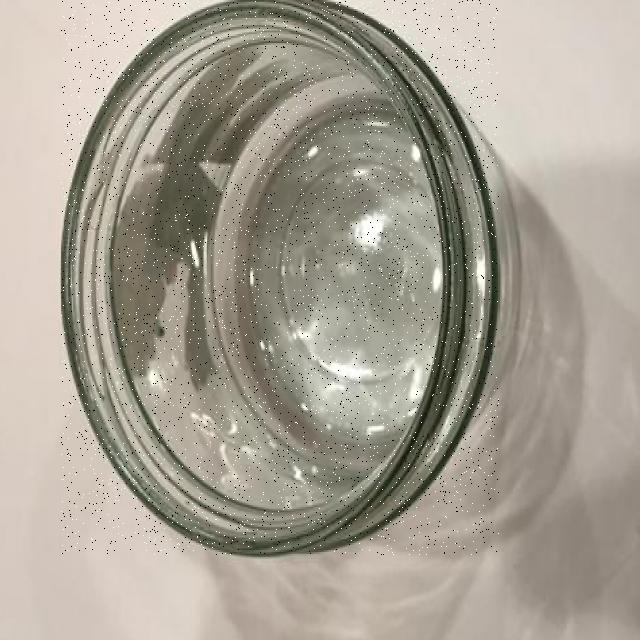glass: (62, 0, 499, 555)
